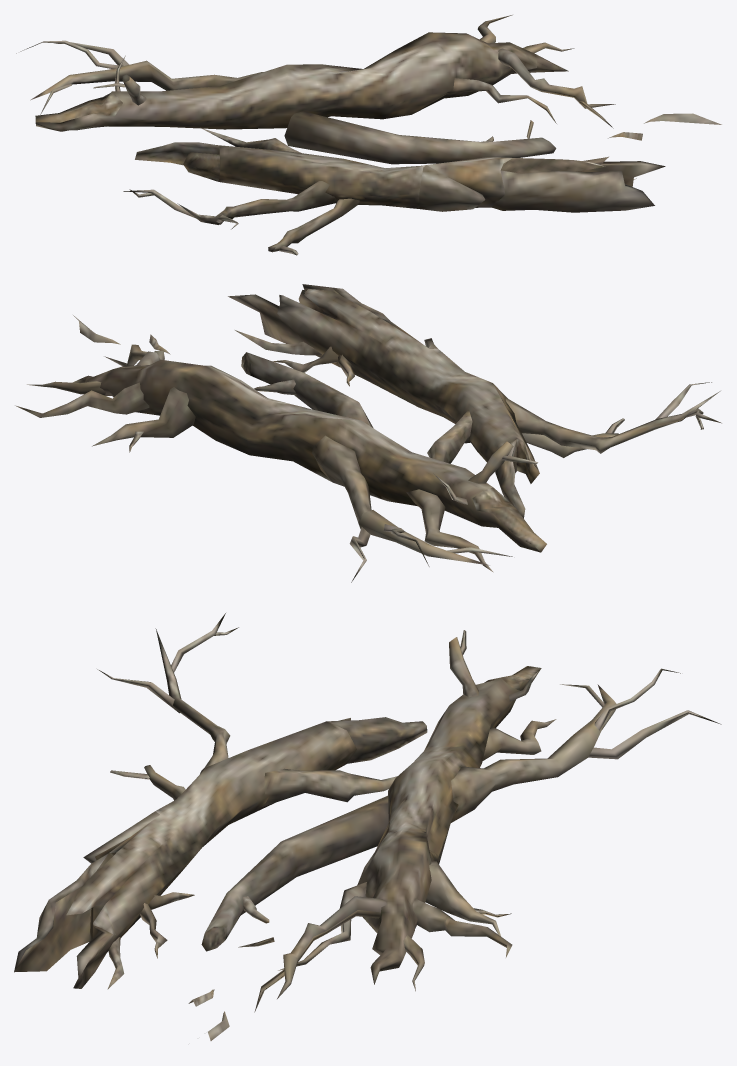
Rendered from S_Tree_Yellow075.FBX.
3 views of the same model, one above another, from view 1: azimuth 30°, elevation 25°; view 2: azimuth 150°, elevation 25°; view 3: azimuth 270°, elevation 25° (orthographic). The views are drawn at different scales.
Visible parts, largest first — view 1: S_Tree_Yellow074; view 2: S_Tree_Yellow074; view 3: S_Tree_Yellow074.
Part boxes in pixels (x1=…): S_Tree_Yellow074: x1=16, y1=15, x2=721, y2=255; S_Tree_Yellow074: x1=15, y1=284, x2=721, y2=582; S_Tree_Yellow074: x1=14, y1=613, x2=721, y2=1040.
Bounding box in the file's own units: 471 × 390 × 81.46.
